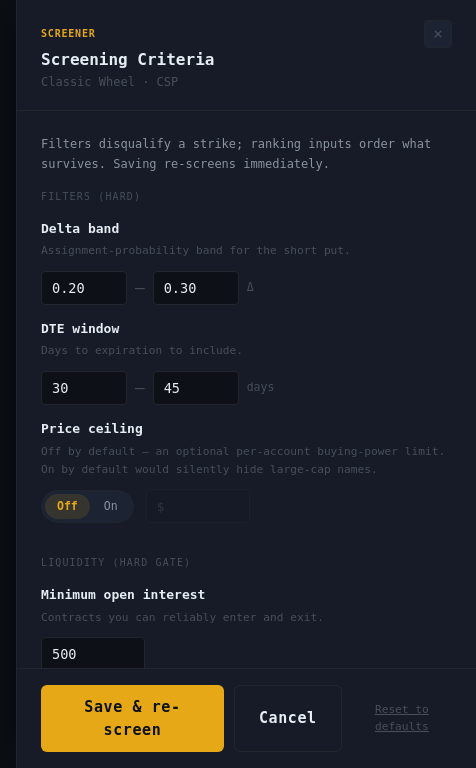
shows the inverted-window error and disables Save & re-screen for a DTE window of 45–30
Replace the text in the field named "Maximum DTE" with "20" at coordinates (196, 388), box [164,378,228,398]
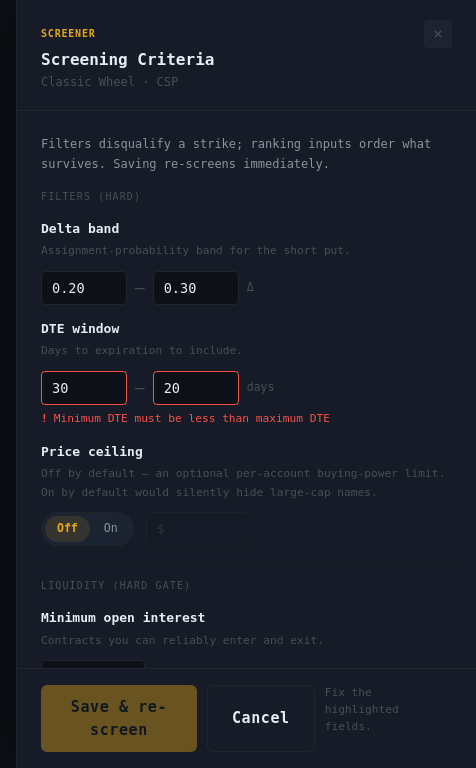
Now the button "Save & re-screen" is disabled, box [41,685,197,752]
Now the text "Minimum DTE must be less than maximum DTE" is shown, box [54,412,330,425]
